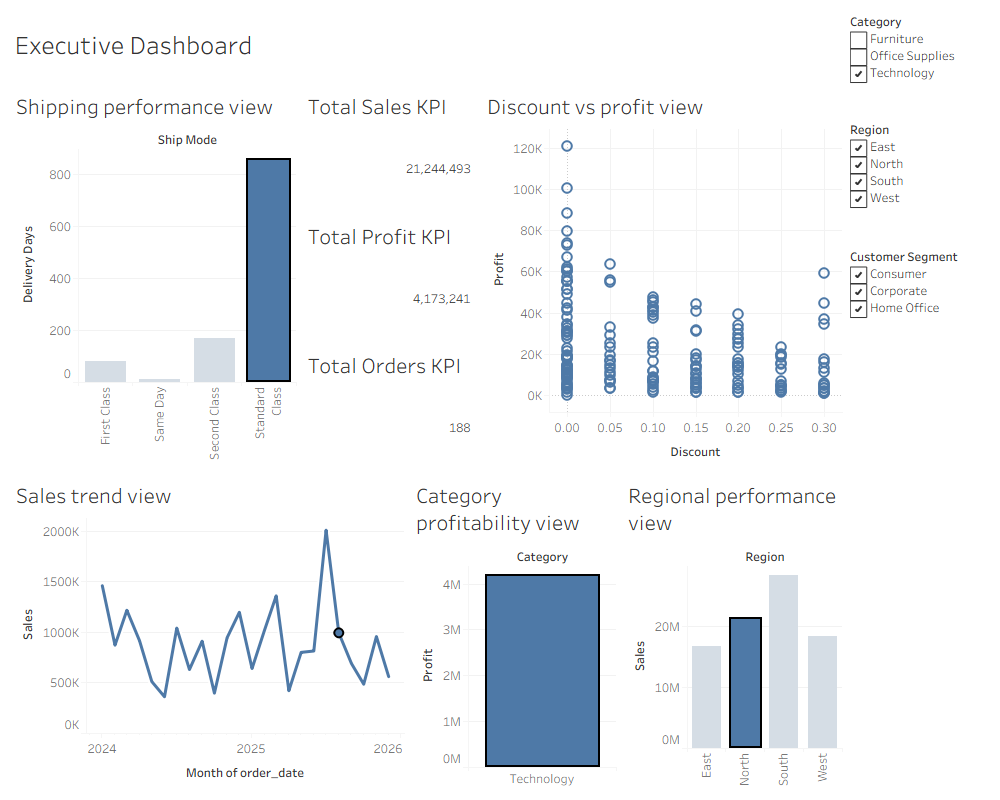

The dashboard page shown, as its layout file describes it:
{"tool":"tableau","page":{"name":"Dashboard 1","canvas":[1000,800],"ordinal":0},"visuals":[{"type":"title","box":[8,8,838,74]},{"type":"filter","title":"Category profitability view","param":"[federated.0m698y60szr5s61d0dd7e1rdqmkc].[none:category:nk]","box":[846,8,146,108]},{"type":"worksheet","title":"Shipping performance view","mark":"Automatic","rows":["delivery_days"],"cols":["ship_mode"],"box":[8,82,292.1,389]},{"type":"worksheet","title":"Total Sales KPI","mark":"Automatic","box":[300.1,82,178.8,129.7]},{"type":"worksheet","title":"Discount vs profit view","mark":"Automatic","rows":["profit"],"cols":["discount"],"box":[478.9,82,367.1,389]},{"type":"filter","title":"Regional performance view","param":"[federated.0m698y60szr5s61d0dd7e1rdqmkc].[none:region:nk]","box":[846,116,146,127]},{"type":"worksheet","title":"Total Profit KPI","mark":"Automatic","box":[300.1,211.7,178.8,129.7]},{"type":"filter","title":"Sales trend view","param":"[federated.0m698y60szr5s61d0dd7e1rdqmkc].[none:customer_segment:nk]","box":[846,243,146,108]},{"type":"worksheet","title":"Total Orders KPI","mark":"Automatic","box":[300.1,341.3,178.8,129.7]},{"type":"worksheet","title":"Sales trend view","mark":"Automatic","rows":["sales"],"cols":["order_date"],"box":[8,471,400.2,321]},{"type":"worksheet","title":"Category profitability view","mark":"Automatic","rows":["profit"],"cols":["category"],"box":[408.2,471,212.1,321]},{"type":"worksheet","title":"Regional performance view","mark":"Automatic","rows":["sales"],"cols":["region"],"box":[620.3,471,225.7,321]}]}

Visuals, with their boxes in screenshot pixels (x1, y1, x2, y2), scaled from the page's 1000x800 canvas onto the 1000x800 screenshot:
title: bbox=(8, 8, 846, 82)
"Category profitability view" filter: bbox=(846, 8, 992, 116)
"Shipping performance view" worksheet: bbox=(8, 82, 300, 471)
"Total Sales KPI" worksheet: bbox=(300, 82, 479, 212)
"Discount vs profit view" worksheet: bbox=(479, 82, 846, 471)
"Regional performance view" filter: bbox=(846, 116, 992, 243)
"Total Profit KPI" worksheet: bbox=(300, 212, 479, 341)
"Sales trend view" filter: bbox=(846, 243, 992, 351)
"Total Orders KPI" worksheet: bbox=(300, 341, 479, 471)
"Sales trend view" worksheet: bbox=(8, 471, 408, 792)
"Category profitability view" worksheet: bbox=(408, 471, 620, 792)
"Regional performance view" worksheet: bbox=(620, 471, 846, 792)
